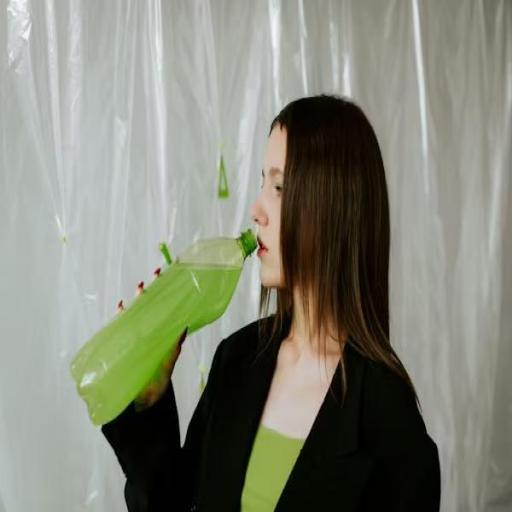bottle: (67, 216, 260, 432)
